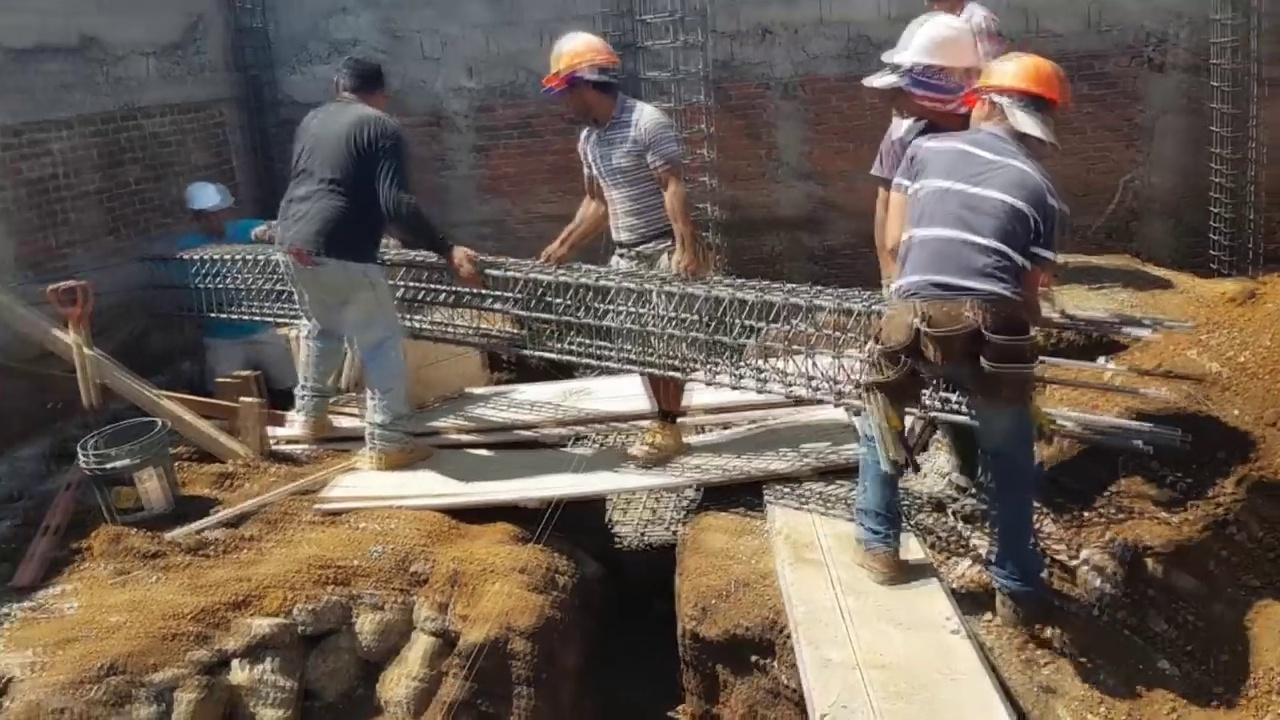helmet: (958, 51, 1070, 118), (883, 13, 981, 77), (540, 28, 628, 98), (184, 179, 231, 215)
helmet-off: (331, 53, 384, 109)
helmet-on: (862, 13, 981, 132), (957, 52, 1071, 150), (538, 29, 628, 127), (184, 180, 235, 242)
person: (860, 52, 1074, 632), (271, 38, 483, 486), (537, 27, 711, 467), (175, 182, 297, 407)
